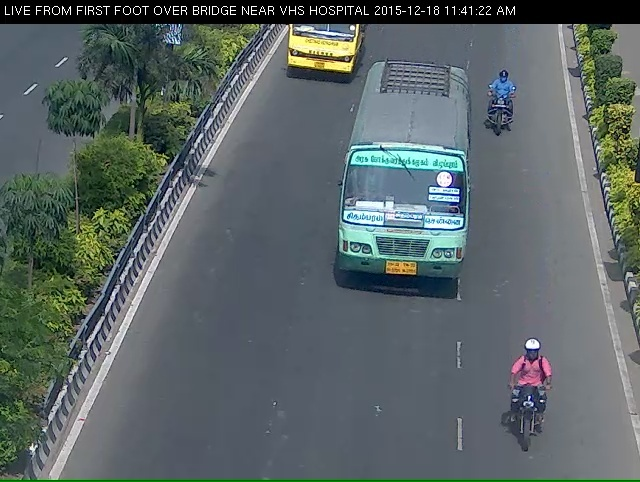Bus: (346, 72, 475, 310), (271, 18, 361, 87)
Person: (497, 376, 554, 479), (484, 70, 520, 149)
